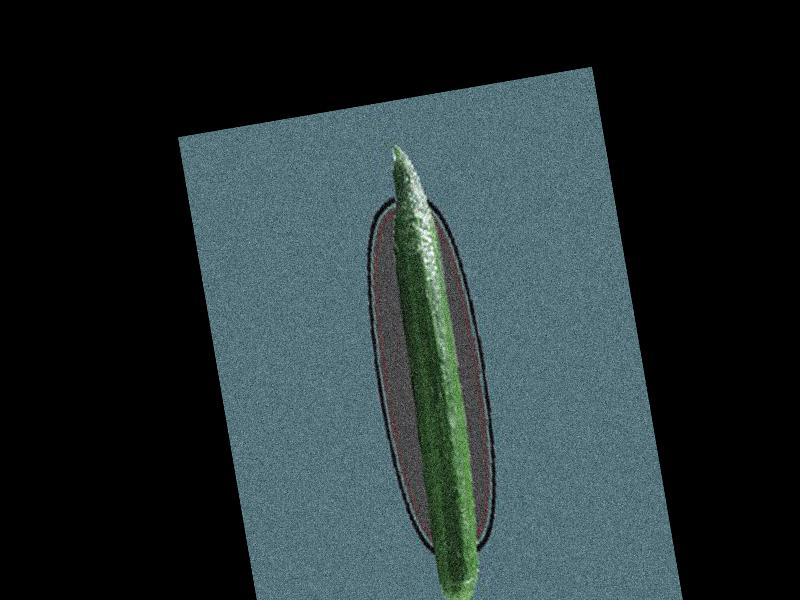Cucumber: (363, 140, 499, 600)
